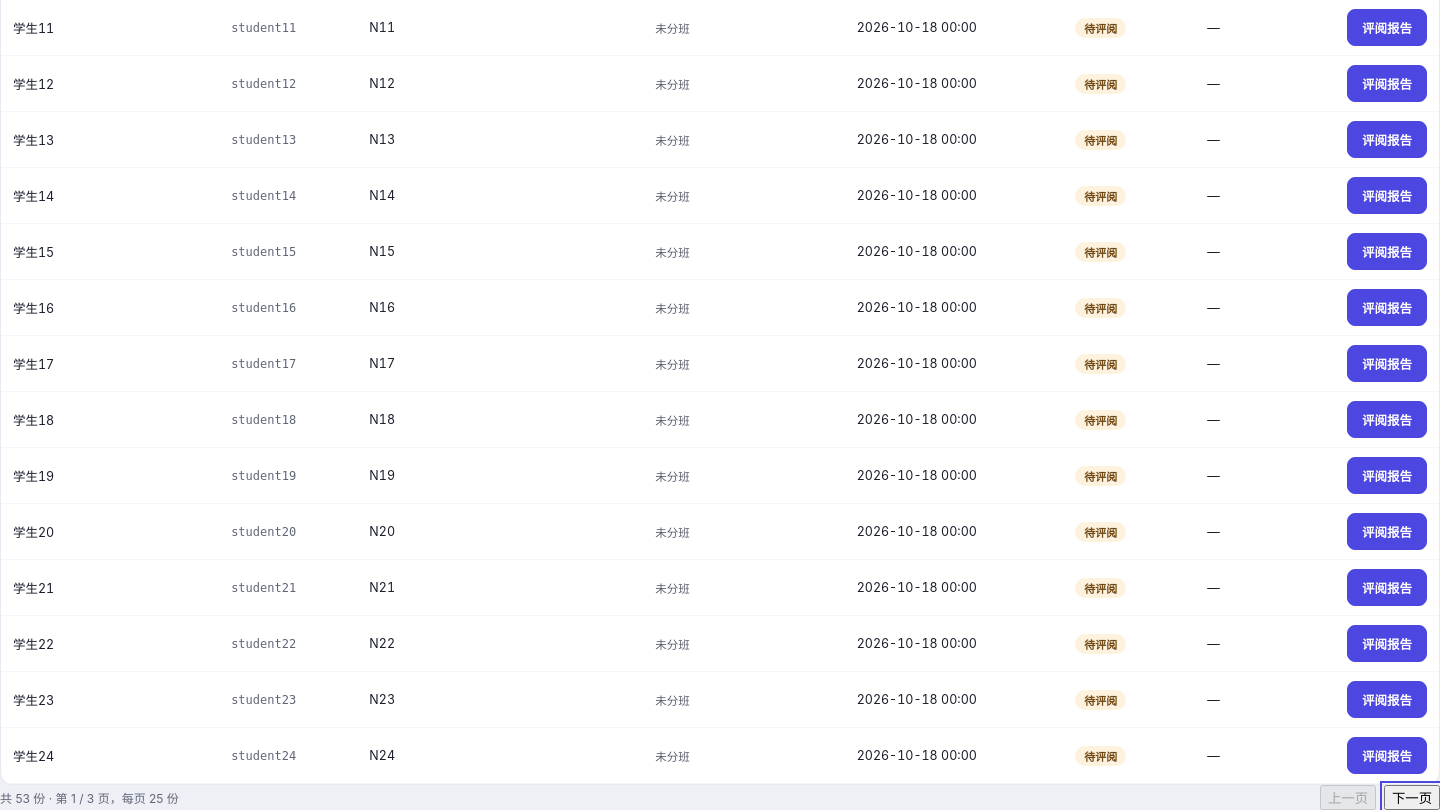
Test case: report pagination and search fetch the requested page and reset filters to page one
(page scrolled)
Check: the text "共 53 份 · 第 1 / 3 页，每页 25 份" is shown, box top-left (0, 789), bottom-right (179, 806)
Click the button "下一页": click(1412, 798) top-left (1384, 785), bottom-right (1439, 809)
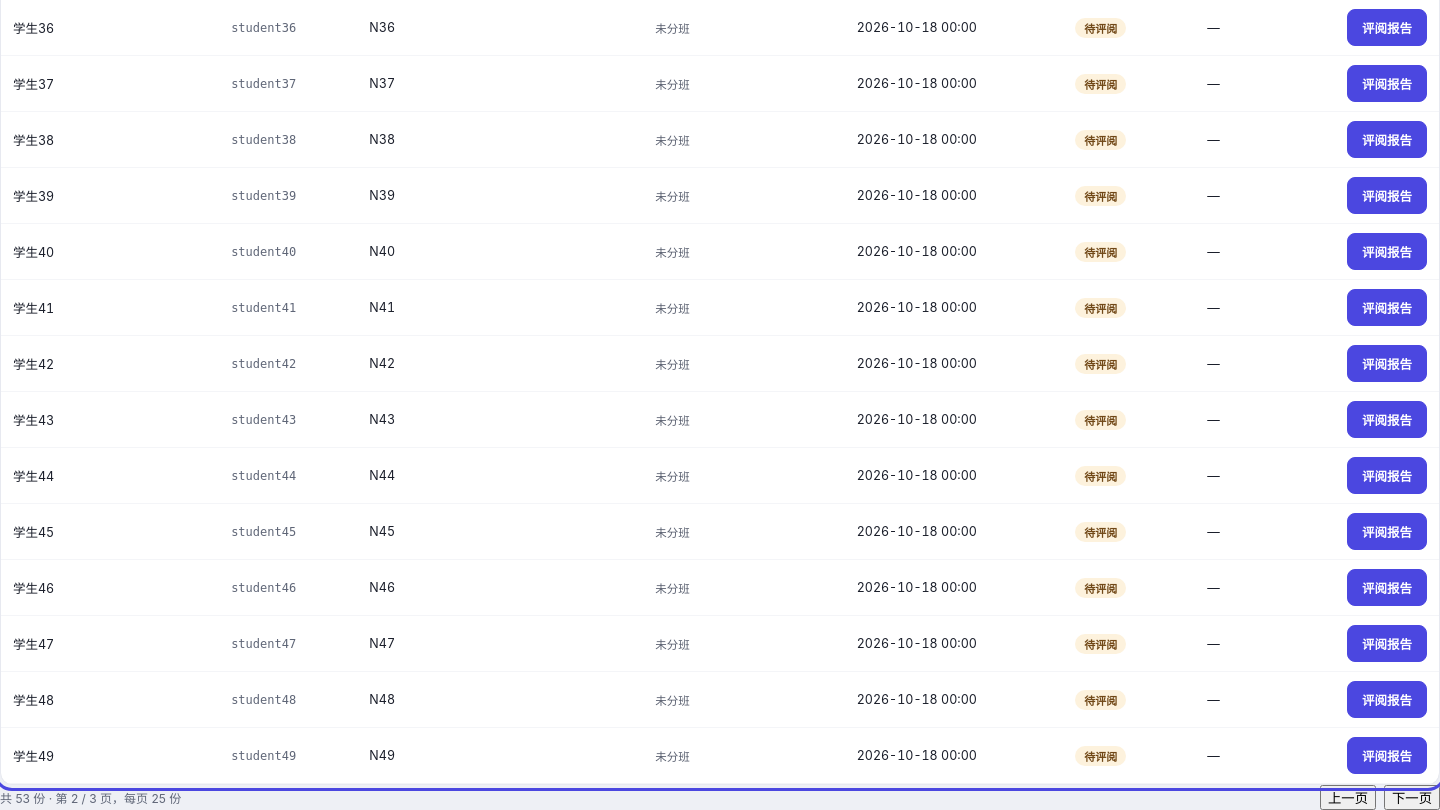
Click the button "下一页": click(1412, 798) top-left (1384, 785), bottom-right (1439, 809)
(page scrolled)
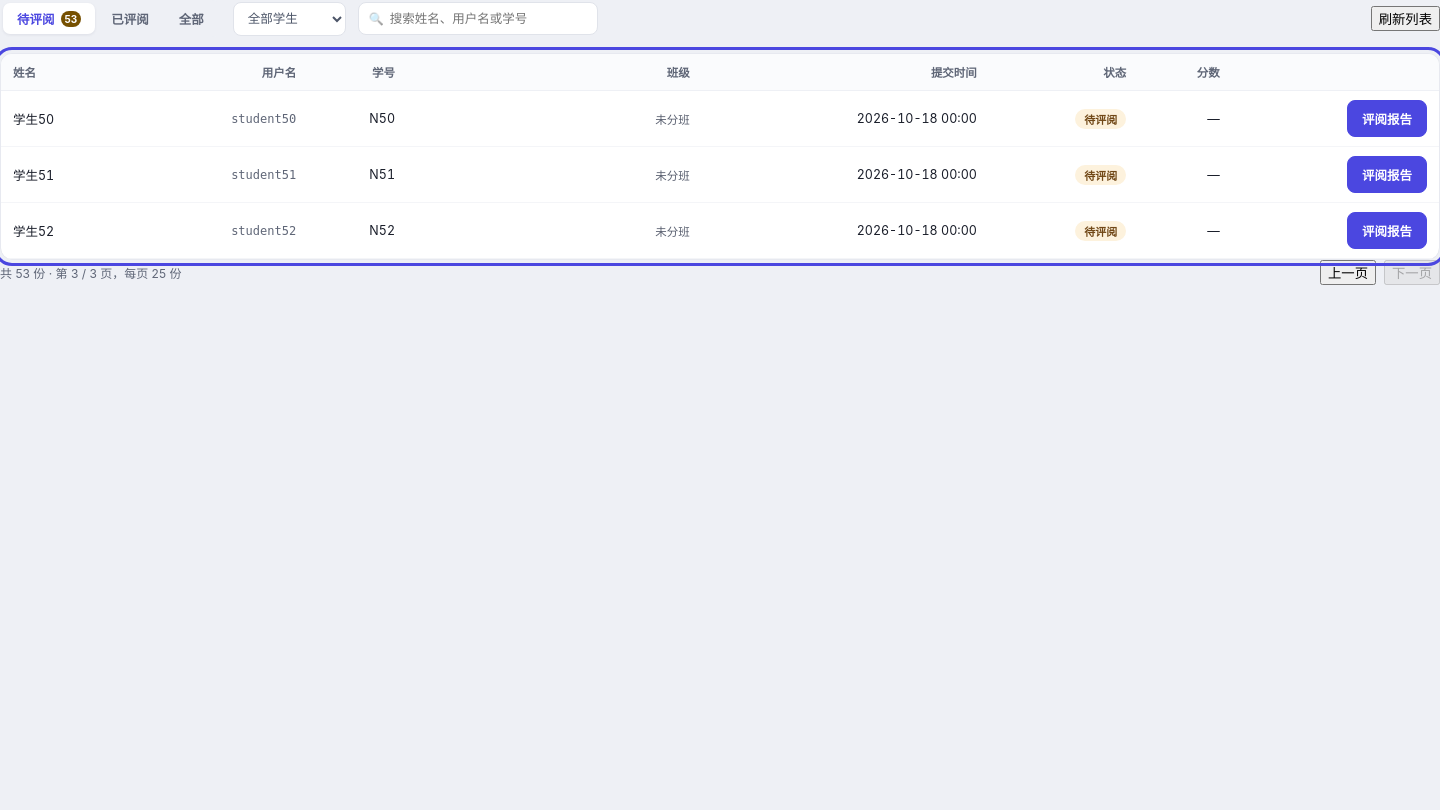
Check: the text "共 53 份 · 第 3 / 3 页，每页 25 份" is shown, box top-left (0, 264), bottom-right (181, 281)
Check: the number of buttons named "评阅报告：" is 3, box top-left (1347, 100), bottom-right (1427, 137); top-left (1347, 156), bottom-right (1427, 193); top-left (1347, 212), bottom-right (1427, 249)
Check: the button "下一页" is disabled, box top-left (1384, 260), bottom-right (1439, 285)
In the field with placeholder "搜索姓名、用户名或学号": (488, 18) top-left (390, 3), bottom-right (587, 34), type "学生51"
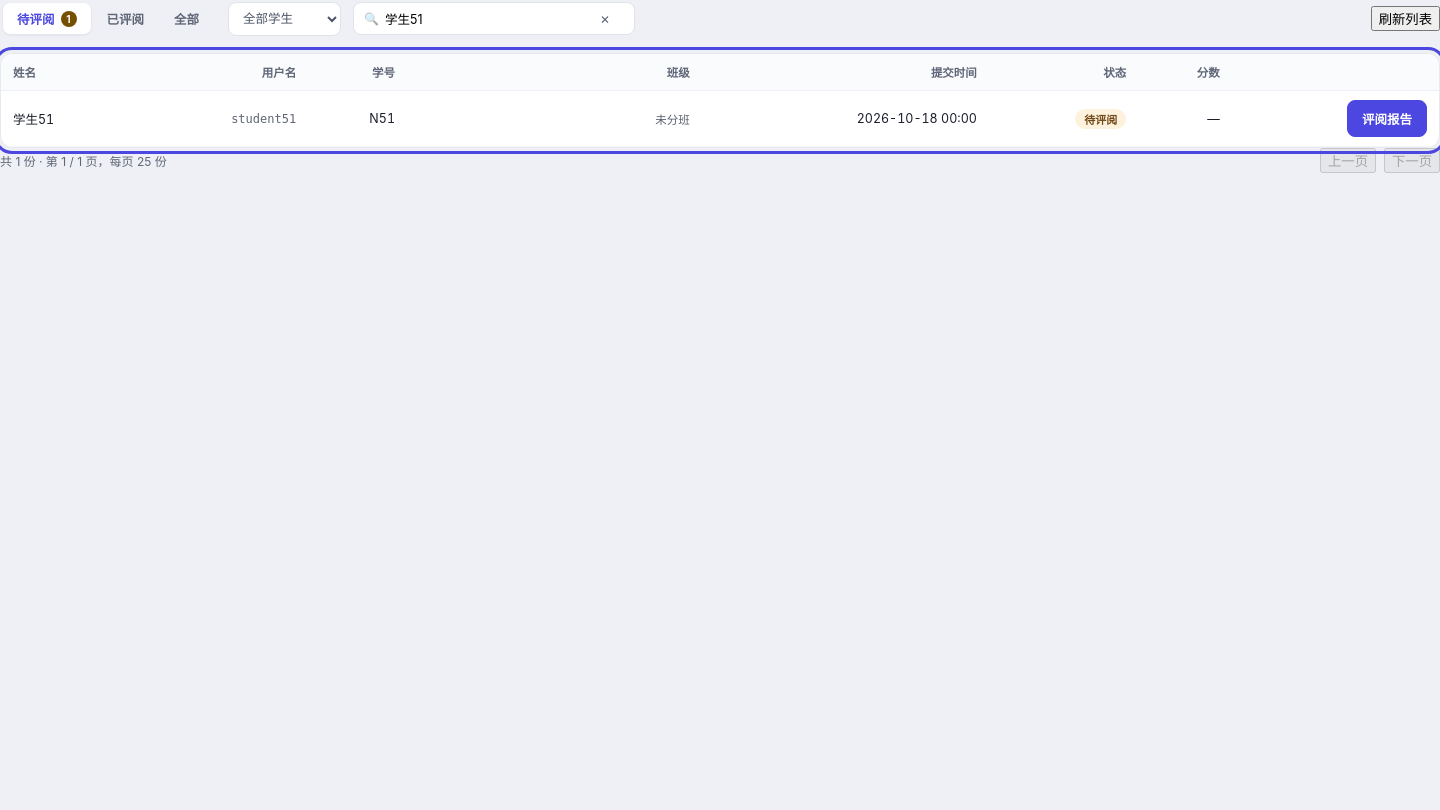
Check: the text "共 1 份 · 第 1 / 1 页，每页 25 份" is shown, box top-left (0, 152), bottom-right (167, 169)
